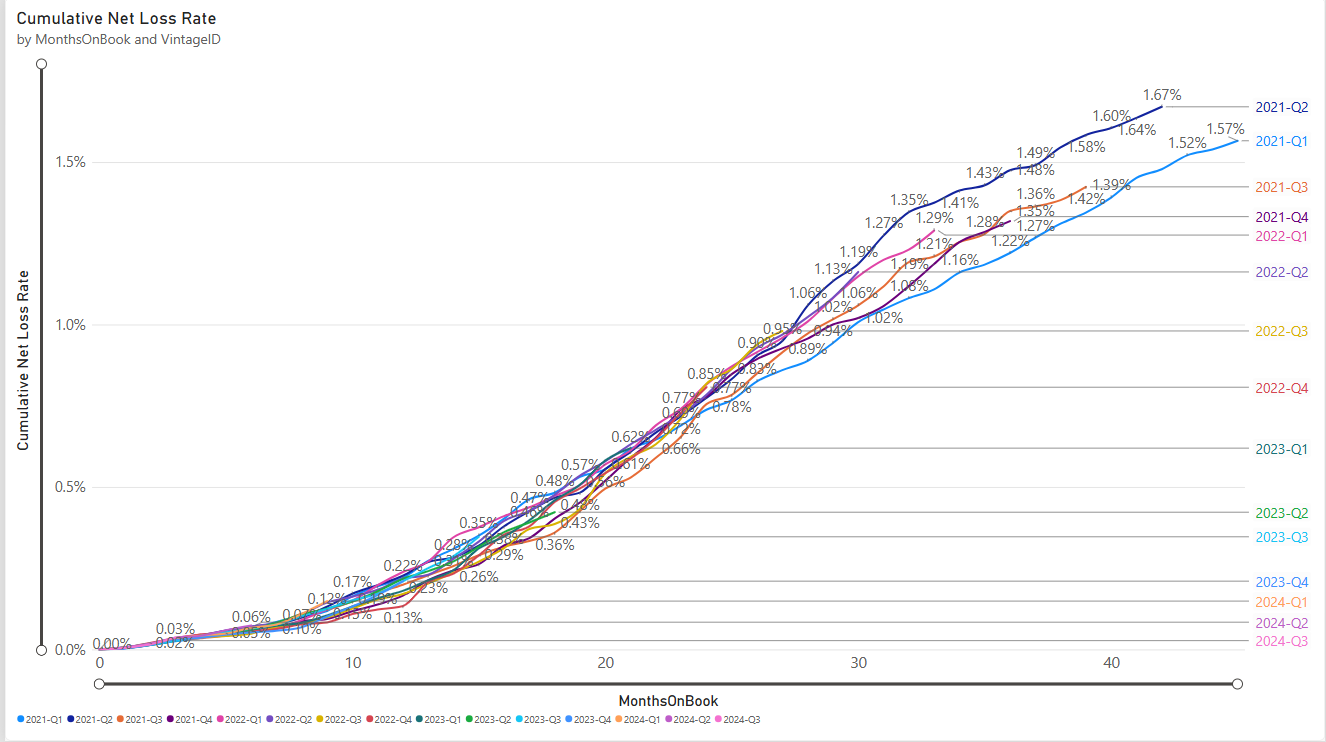

This screenshot's page, from the dashboard's own definition file:
{"tool":"powerbi","page":{"name":"Vintage & Static Loss","canvas":[1920,1080],"ordinal":2},"visuals":[{"type":"lineChart","fields":{"Category":["static_pool_vintage_data.MonthsOnBook"],"Y":["_AllMeasures.Cumulative Net Loss Rate"],"Series":["static_pool_vintage_data.VintageID"]},"box":[0,0,1920,1080],"z":0}]}

Visuals, with their boxes in screenshot pixels (x1, y1, x2, y2), scaled from the page's 1920x1080 canvas onto the 1326x742 screenshot:
lineChart - static_pool_vintage_data.MonthsOnBook x _AllMeasures.Cumulative Net Loss Rate: 0 0 1325 741
